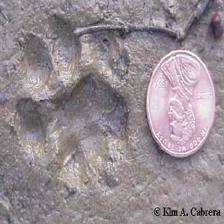cat: (2, 14, 143, 195)
